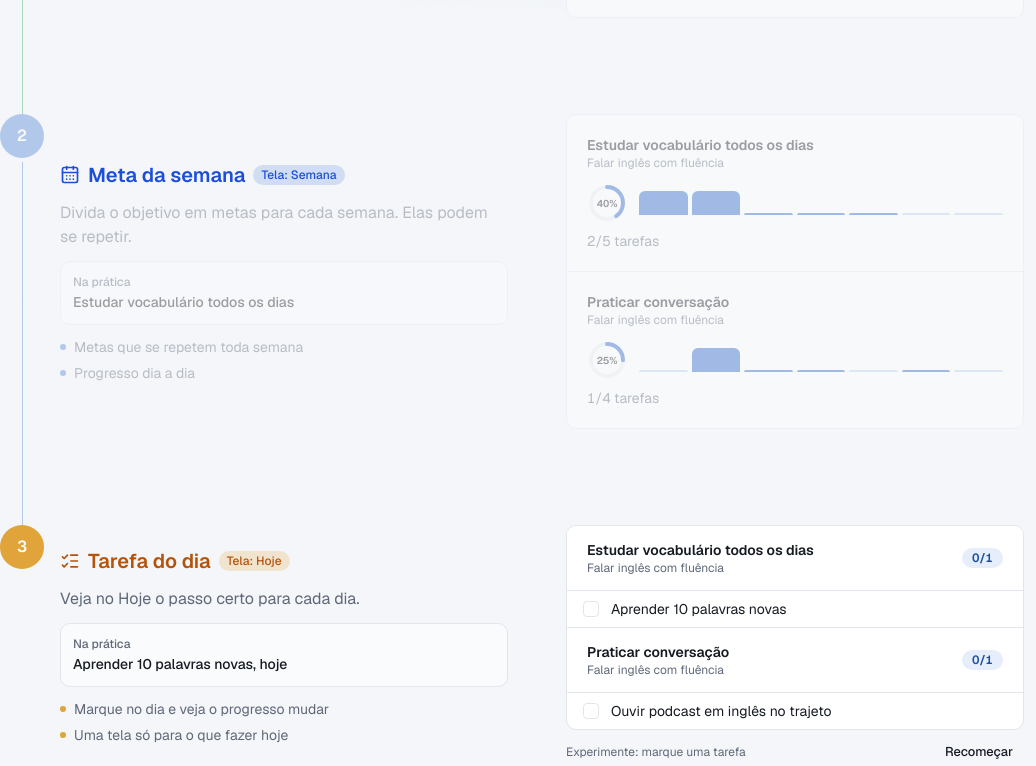
Test: LandingFlow › keeps one set of tasks for the cards: a tick in the Hoje card moves the week card
This screenshot has width=1036, height=766.
(page scrolled)
Click the 1st checkbox named "Aprender 10 palavras novas".
click(591, 609)  # box [583, 601, 599, 617]
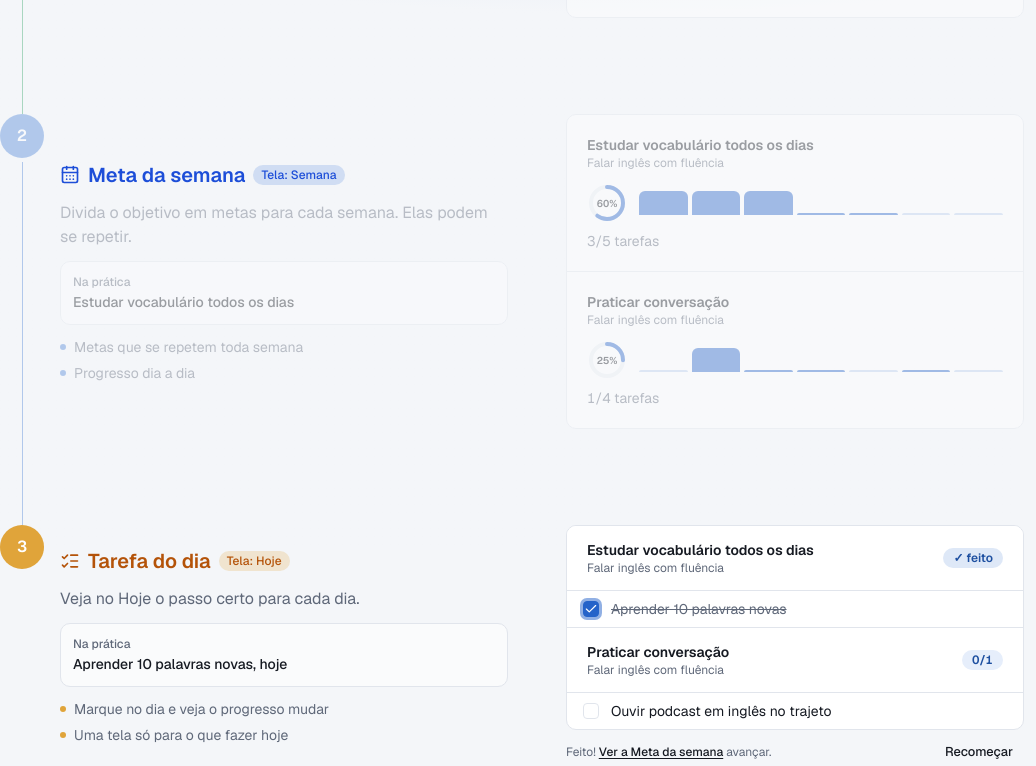
Expected: the 1st checkbox named "Aprender 10 palavras novas" is checked, [583, 601, 599, 617]
Expected: the text "60%" is shown, [597, 196, 617, 210]
